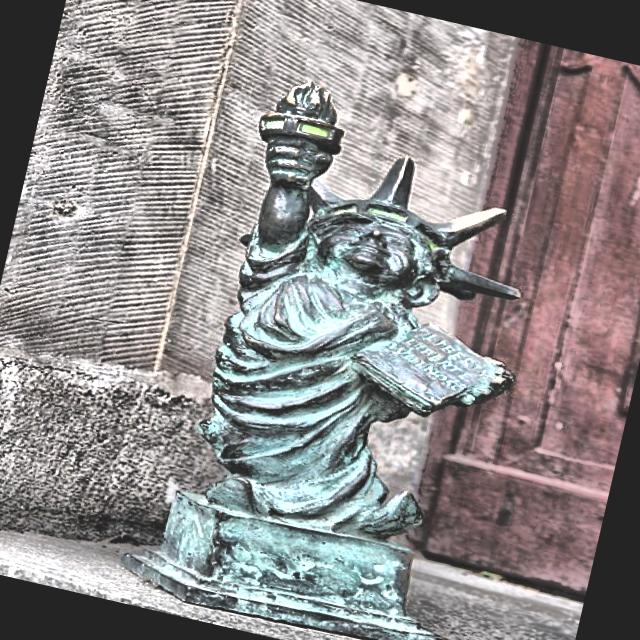LadyWolnosc: (122, 83, 519, 640)
